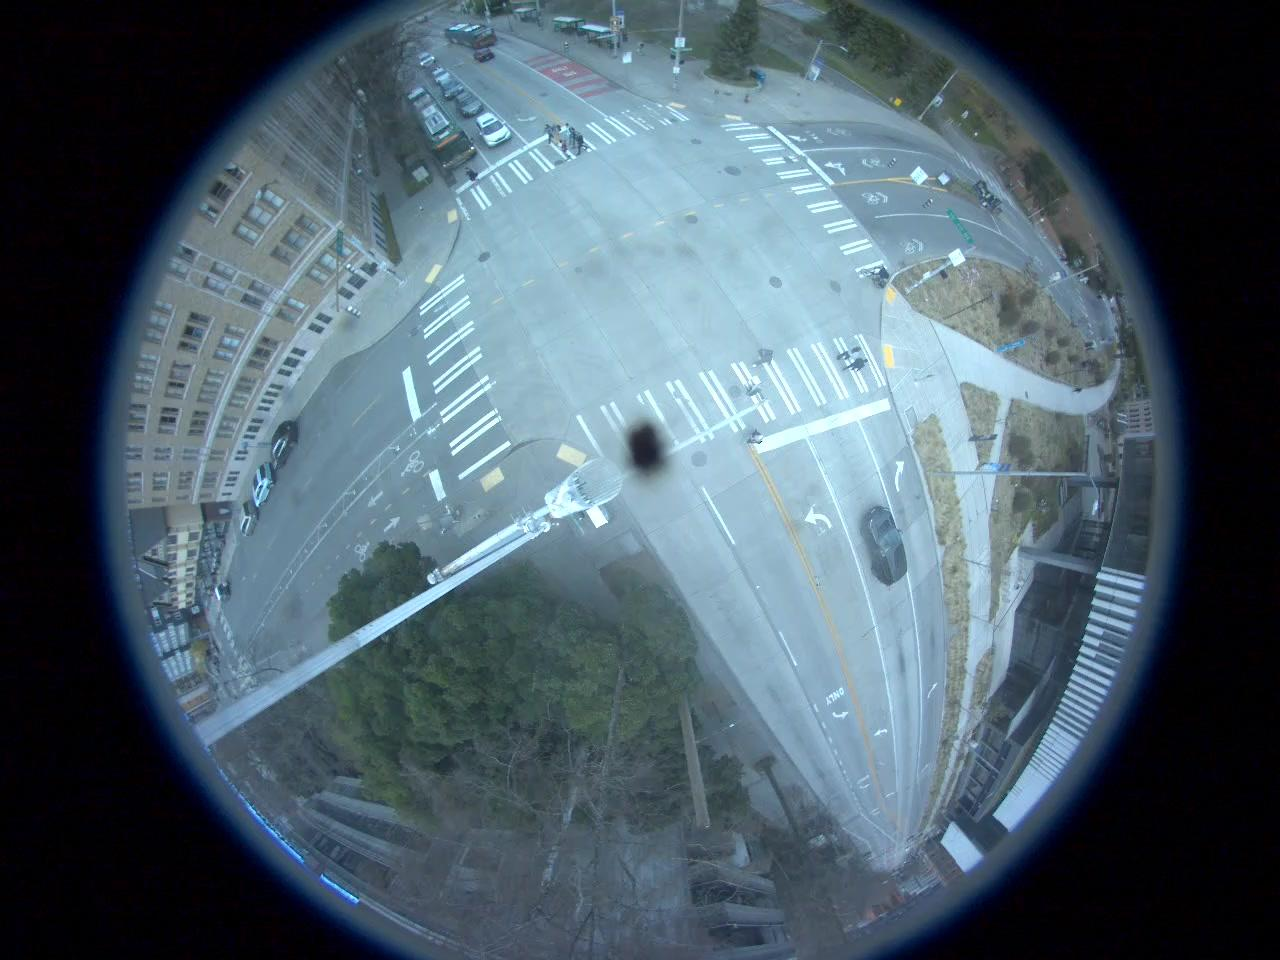bicycle: (862, 263, 891, 289)
bus: (407, 86, 472, 168), (444, 22, 497, 48)
car: (862, 506, 912, 589), (269, 421, 296, 468), (251, 462, 277, 508), (481, 110, 511, 149), (236, 500, 260, 542), (454, 96, 484, 118), (440, 78, 464, 100), (472, 46, 498, 64), (430, 68, 452, 84)
person: (834, 345, 862, 363), (754, 346, 774, 370), (846, 356, 870, 374), (554, 124, 569, 152), (575, 130, 588, 156), (542, 122, 556, 145), (748, 427, 764, 446), (466, 167, 482, 185), (557, 138, 569, 160), (568, 126, 576, 150), (1071, 387, 1084, 394)
